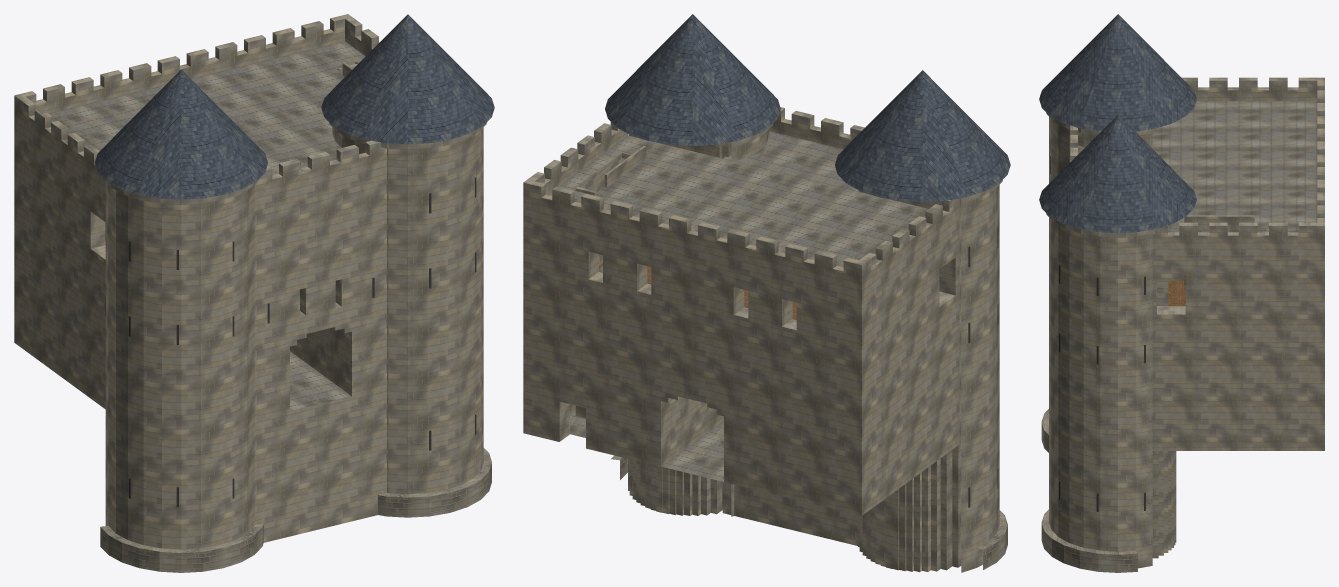
Rendered from fort-gatehouse.fort-v1.lod0.glb.
The picture shows the model from 3 angles, left to right: view 1: azimuth 30°, elevation 25°; view 2: azimuth 150°, elevation 25°; view 3: azimuth 270°, elevation 25°; orthographic projection. The views are drawn at different scales.
Visible parts, largest first — view 1: fort-gatehouse; view 2: fort-gatehouse; view 3: fort-gatehouse.
Part boxes in pixels (x1,y1,x2,y2): fort-gatehouse: (14,14,494,572); fort-gatehouse: (523,14,1010,572); fort-gatehouse: (1039,14,1324,572).
Bounding box in the file's own units: 31.6 × 37.5 × 22.8.
Materials: 6 (5 with a texture image).
